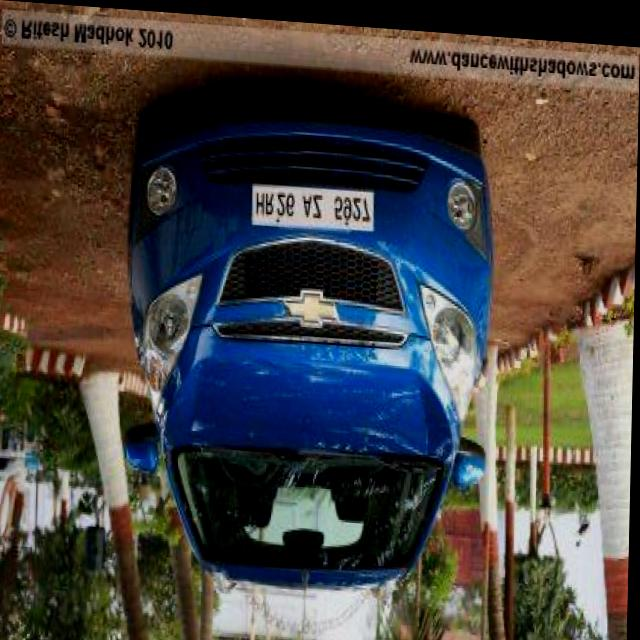2: (277, 189, 286, 211), (354, 191, 362, 214)
5: (335, 192, 344, 213)
6: (287, 189, 297, 211)
7: (362, 193, 371, 217)
9: (344, 192, 353, 214)
a: (304, 188, 313, 211)
h: (256, 187, 266, 213)
r: (266, 189, 275, 212)
z: (313, 191, 323, 213)
